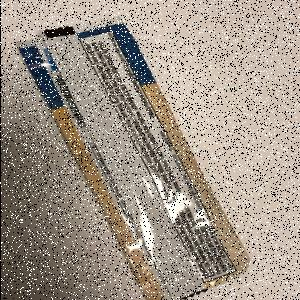Trash: (16, 17, 252, 300)
